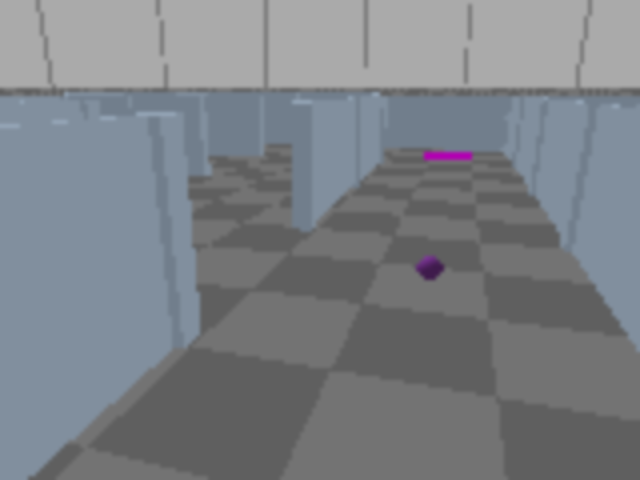puck: (412, 251, 448, 287)
